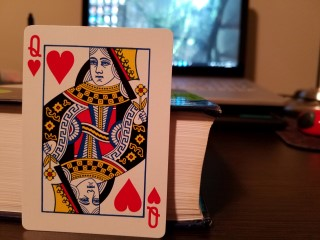QueenOfHearts: (21, 24, 174, 240)
